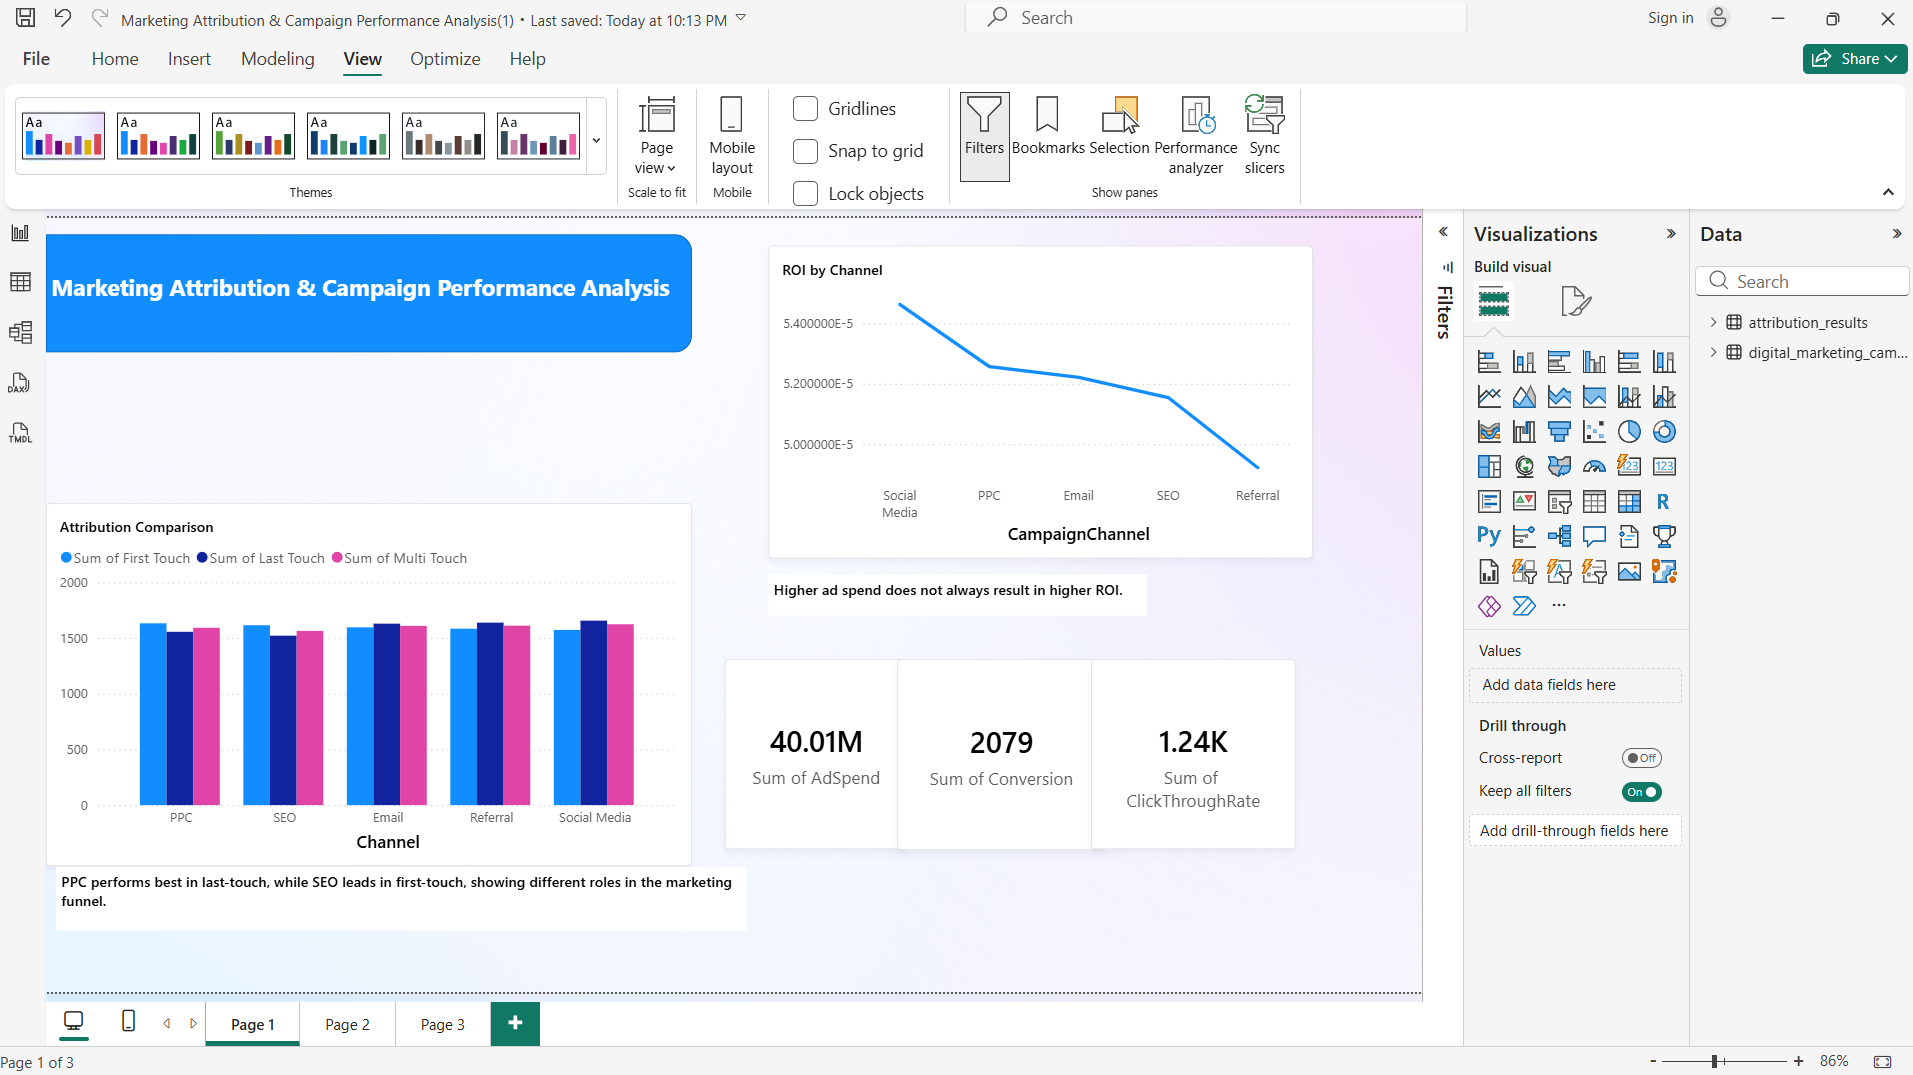

The dashboard page shown, as its layout file describes it:
{"tool":"powerbi","page":{"name":"Page 1","canvas":[1280,720],"ordinal":0},"visuals":[{"type":"clusteredColumnChart","title":"Attribution Comparison","fields":{"Category":["attribution_results.Channel"],"Y":["Sum(attribution_results.First Touch)","Sum(attribution_results.Last Touch)","Sum(attribution_results.Multi Touch)"]},"box":[0,265.6,601.1,337.8],"z":0},{"type":"lineChart","title":"ROI by Channel","fields":{"Category":["digital_marketing_campaign_dataset.CampaignChannel"],"Y":["digital_marketing_campaign_dataset.ROI"]},"box":[672.2,25.6,506.7,291.1],"z":1000},{"type":"textbox","box":[8.9,603.3,642.2,58.9],"z":2000},{"type":"textbox","box":[672.1,331.4,352.3,38.4],"z":3000},{"type":"card","fields":{"Values":["Sum(digital_marketing_campaign_dataset.AdSpend)"]},"box":[631.4,410.5,170.9,176.7],"z":4000},{"type":"card","fields":{"Values":["Sum(digital_marketing_campaign_dataset.Conversion)"]},"box":[792.2,410,194.4,177.8],"z":5000},{"type":"card","fields":{"Values":["Sum(digital_marketing_campaign_dataset.ClickThroughRate)"]},"box":[972.1,410.5,190.7,176.7],"z":6000},{"type":"shape","box":[0,15.6,601.1,110],"z":7000},{"type":"textbox","box":[0,44.4,692.2,53.3],"z":8000}]}

Visuals, with their boxes on the page's 1280x720 design canvas (x1, y1, x2, y2). These are canvas units, not pixel positions in the 1913x1075 screenshot, which may show the page scaled, cropped or inside an application window:
"Attribution Comparison" clusteredColumnChart: select_region(0, 266, 601, 603)
"ROI by Channel" lineChart: select_region(672, 26, 1179, 317)
textbox: select_region(9, 603, 651, 662)
textbox: select_region(672, 331, 1024, 370)
card - Sum(digital_marketing_campaign_dataset.AdSpend): select_region(631, 410, 802, 587)
card - Sum(digital_marketing_campaign_dataset.Conversion): select_region(792, 410, 987, 588)
card - Sum(digital_marketing_campaign_dataset.ClickThroughRate): select_region(972, 410, 1163, 587)
shape: select_region(0, 16, 601, 126)
textbox: select_region(0, 44, 692, 98)
